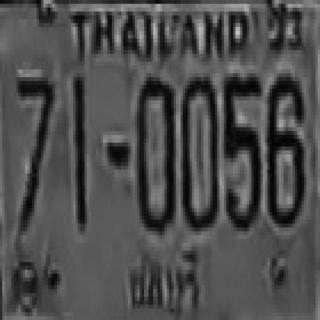N00: (135, 73, 174, 231), (180, 73, 217, 227)
N01: (72, 73, 86, 227)
N05: (223, 73, 260, 227)
N06: (266, 73, 303, 224)
N07: (16, 73, 52, 227)
P13: (120, 246, 208, 318)
